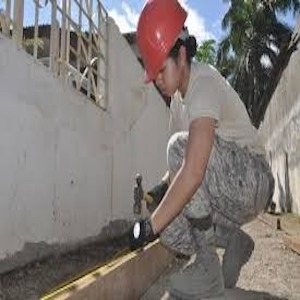safety: (138, 2, 190, 83)
